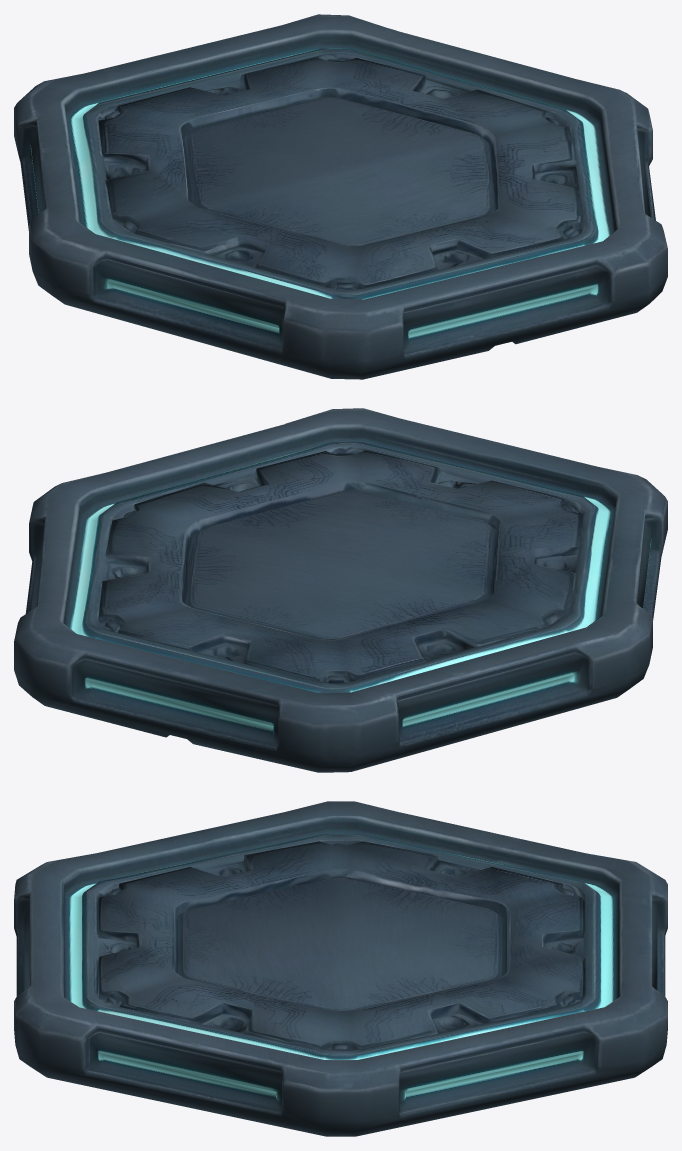
The model's file is bridge_platform.optimized.glb.
The picture shows the model from 3 angles, top to bottom: view 1: azimuth 30°, elevation 25°; view 2: azimuth 150°, elevation 25°; view 3: azimuth 270°, elevation 25°; orthographic projection. The views are drawn at different scales.
Visible parts, largest first — view 1: tripo_node_9df76f1c-e65a-4318-b75b-954449b83a8b; view 2: tripo_node_9df76f1c-e65a-4318-b75b-954449b83a8b; view 3: tripo_node_9df76f1c-e65a-4318-b75b-954449b83a8b.
Boxes of the visible parts, <box> form: tripo_node_9df76f1c-e65a-4318-b75b-954449b83a8b: <box>14,14,667,379</box>; tripo_node_9df76f1c-e65a-4318-b75b-954449b83a8b: <box>14,408,667,772</box>; tripo_node_9df76f1c-e65a-4318-b75b-954449b83a8b: <box>14,801,667,1136</box>.
Bounding box in the file's own units: 31998 × 3320 × 31123.
Materials: 1 (1 with a texture image).
